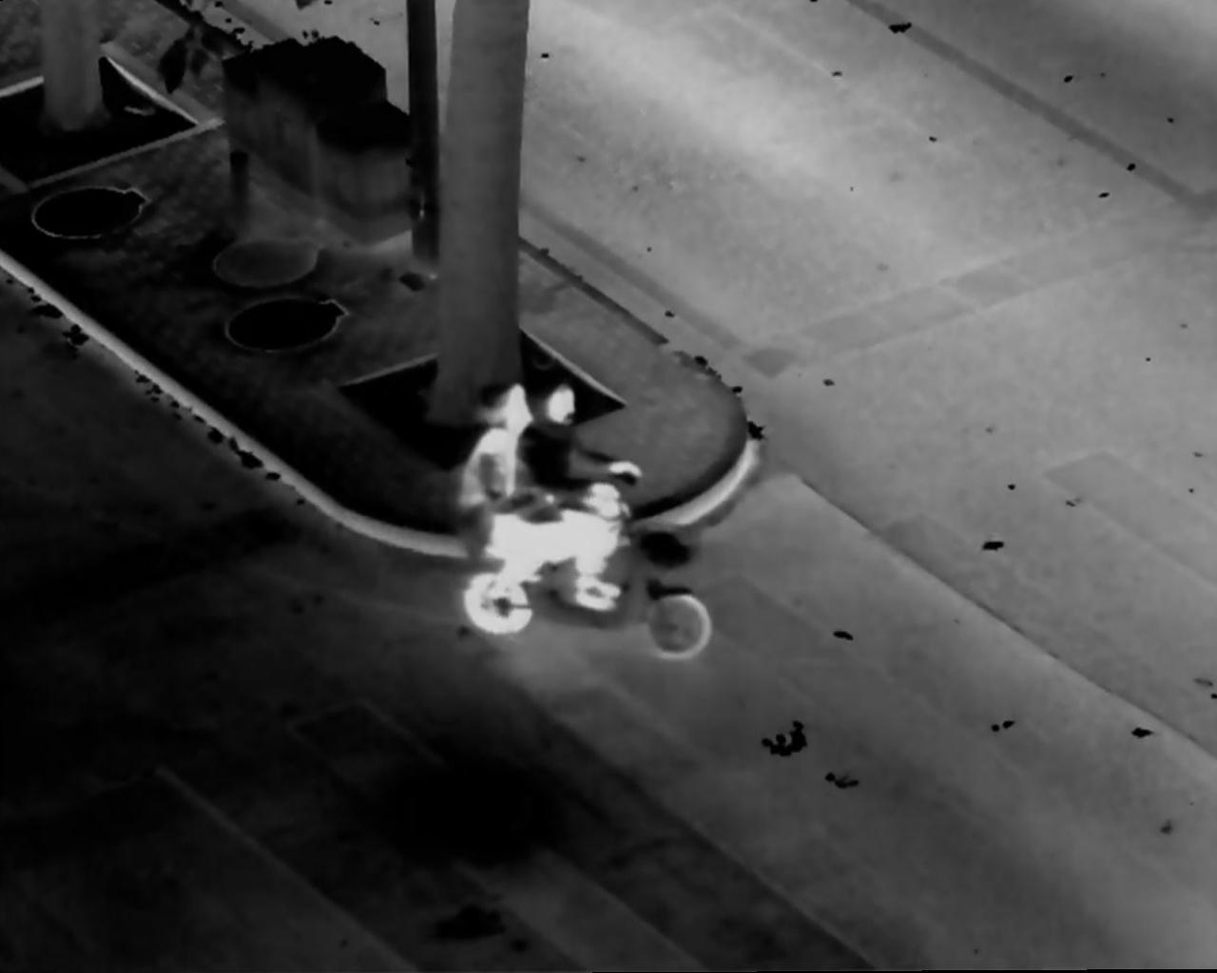person: (527, 387, 649, 604), (457, 384, 537, 636)
